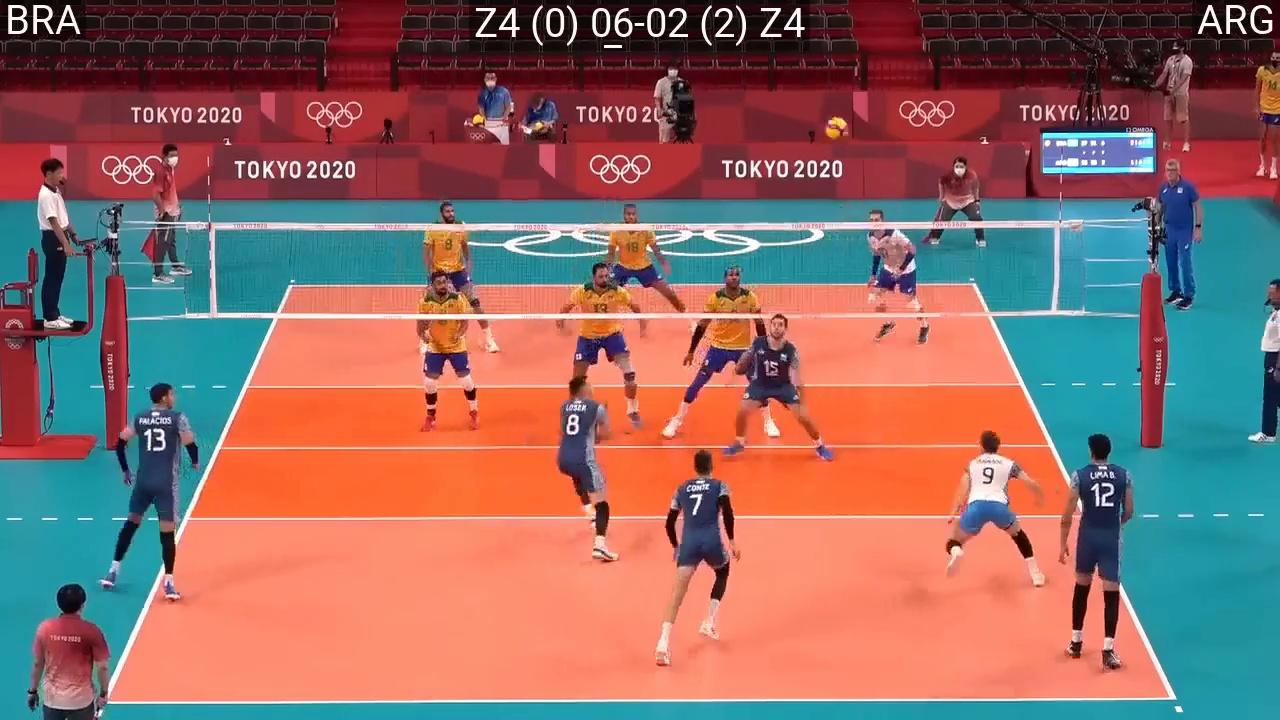ball: (823, 116, 850, 142)
